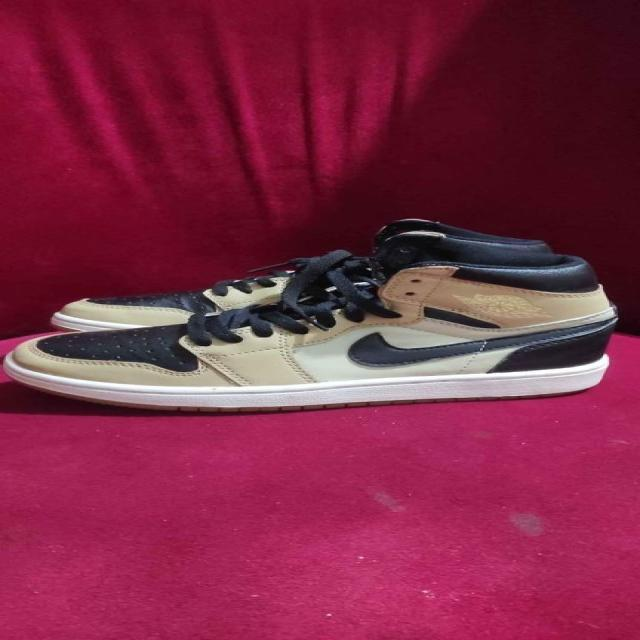nike fake jordan 1: (0, 237, 620, 417), (48, 213, 566, 333)
